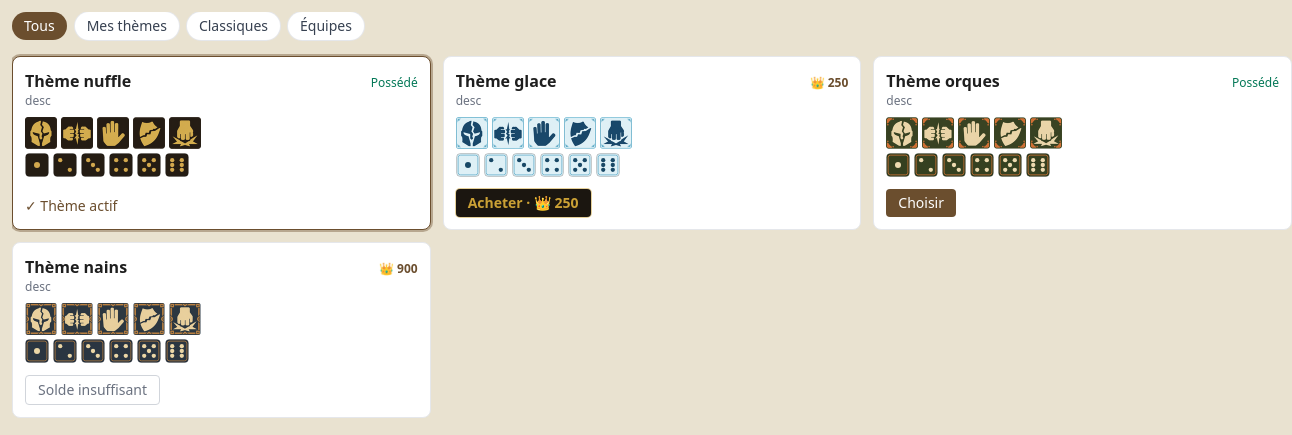
Test: DiceThemeShop › filtre « Mes thèmes » et « Classiques »
Click the button with test id "dice-shop-filter-owned" at [127, 26], box [75, 12, 179, 40]
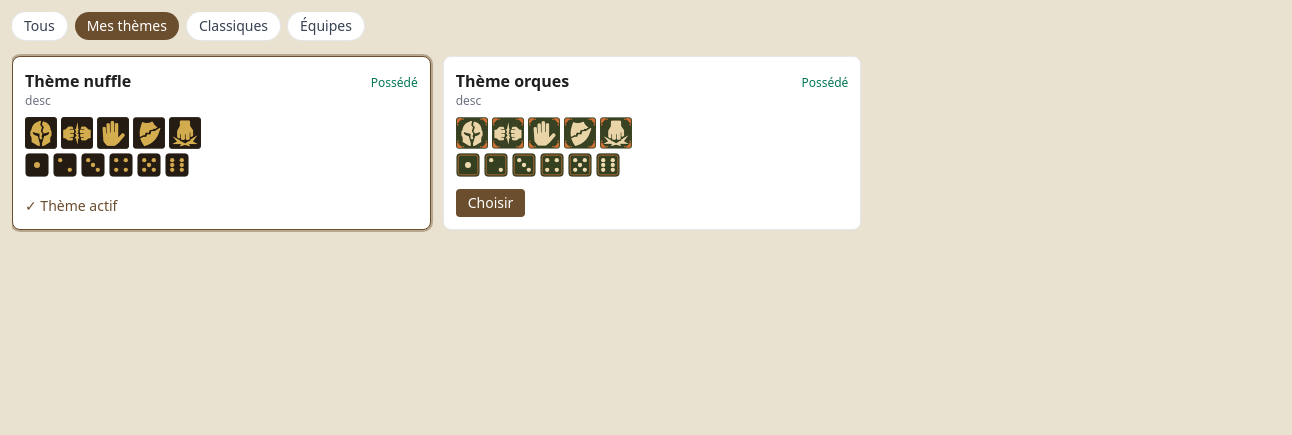
Expected: the list item with test id "dice-theme-orques" is shown, [443, 56, 861, 230]
Expected: the list item with test id "dice-theme-glace" is gone
Click the button with test id "dice-shop-filter-classic" at [234, 26], box [187, 12, 280, 40]
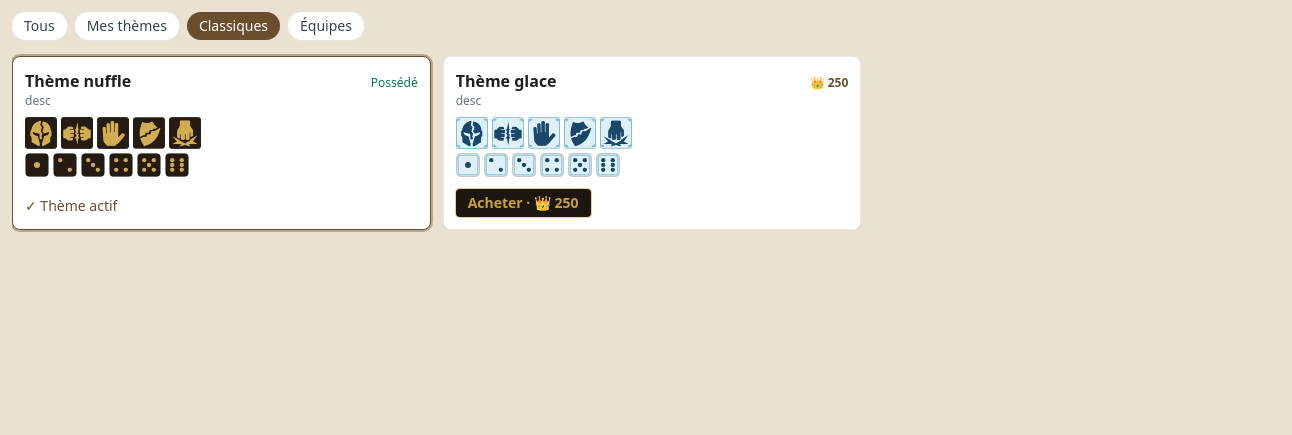
Expected: the list item with test id "dice-theme-orques" is gone
Expected: the list item with test id "dice-theme-glace" is shown, [443, 56, 861, 230]
